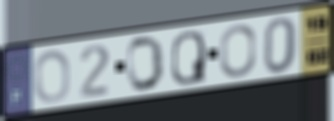0: (262, 15, 299, 76)
2: (78, 43, 112, 99)
O: (125, 34, 167, 94), (32, 48, 72, 105), (218, 23, 258, 80)
Q: (170, 29, 208, 87)
